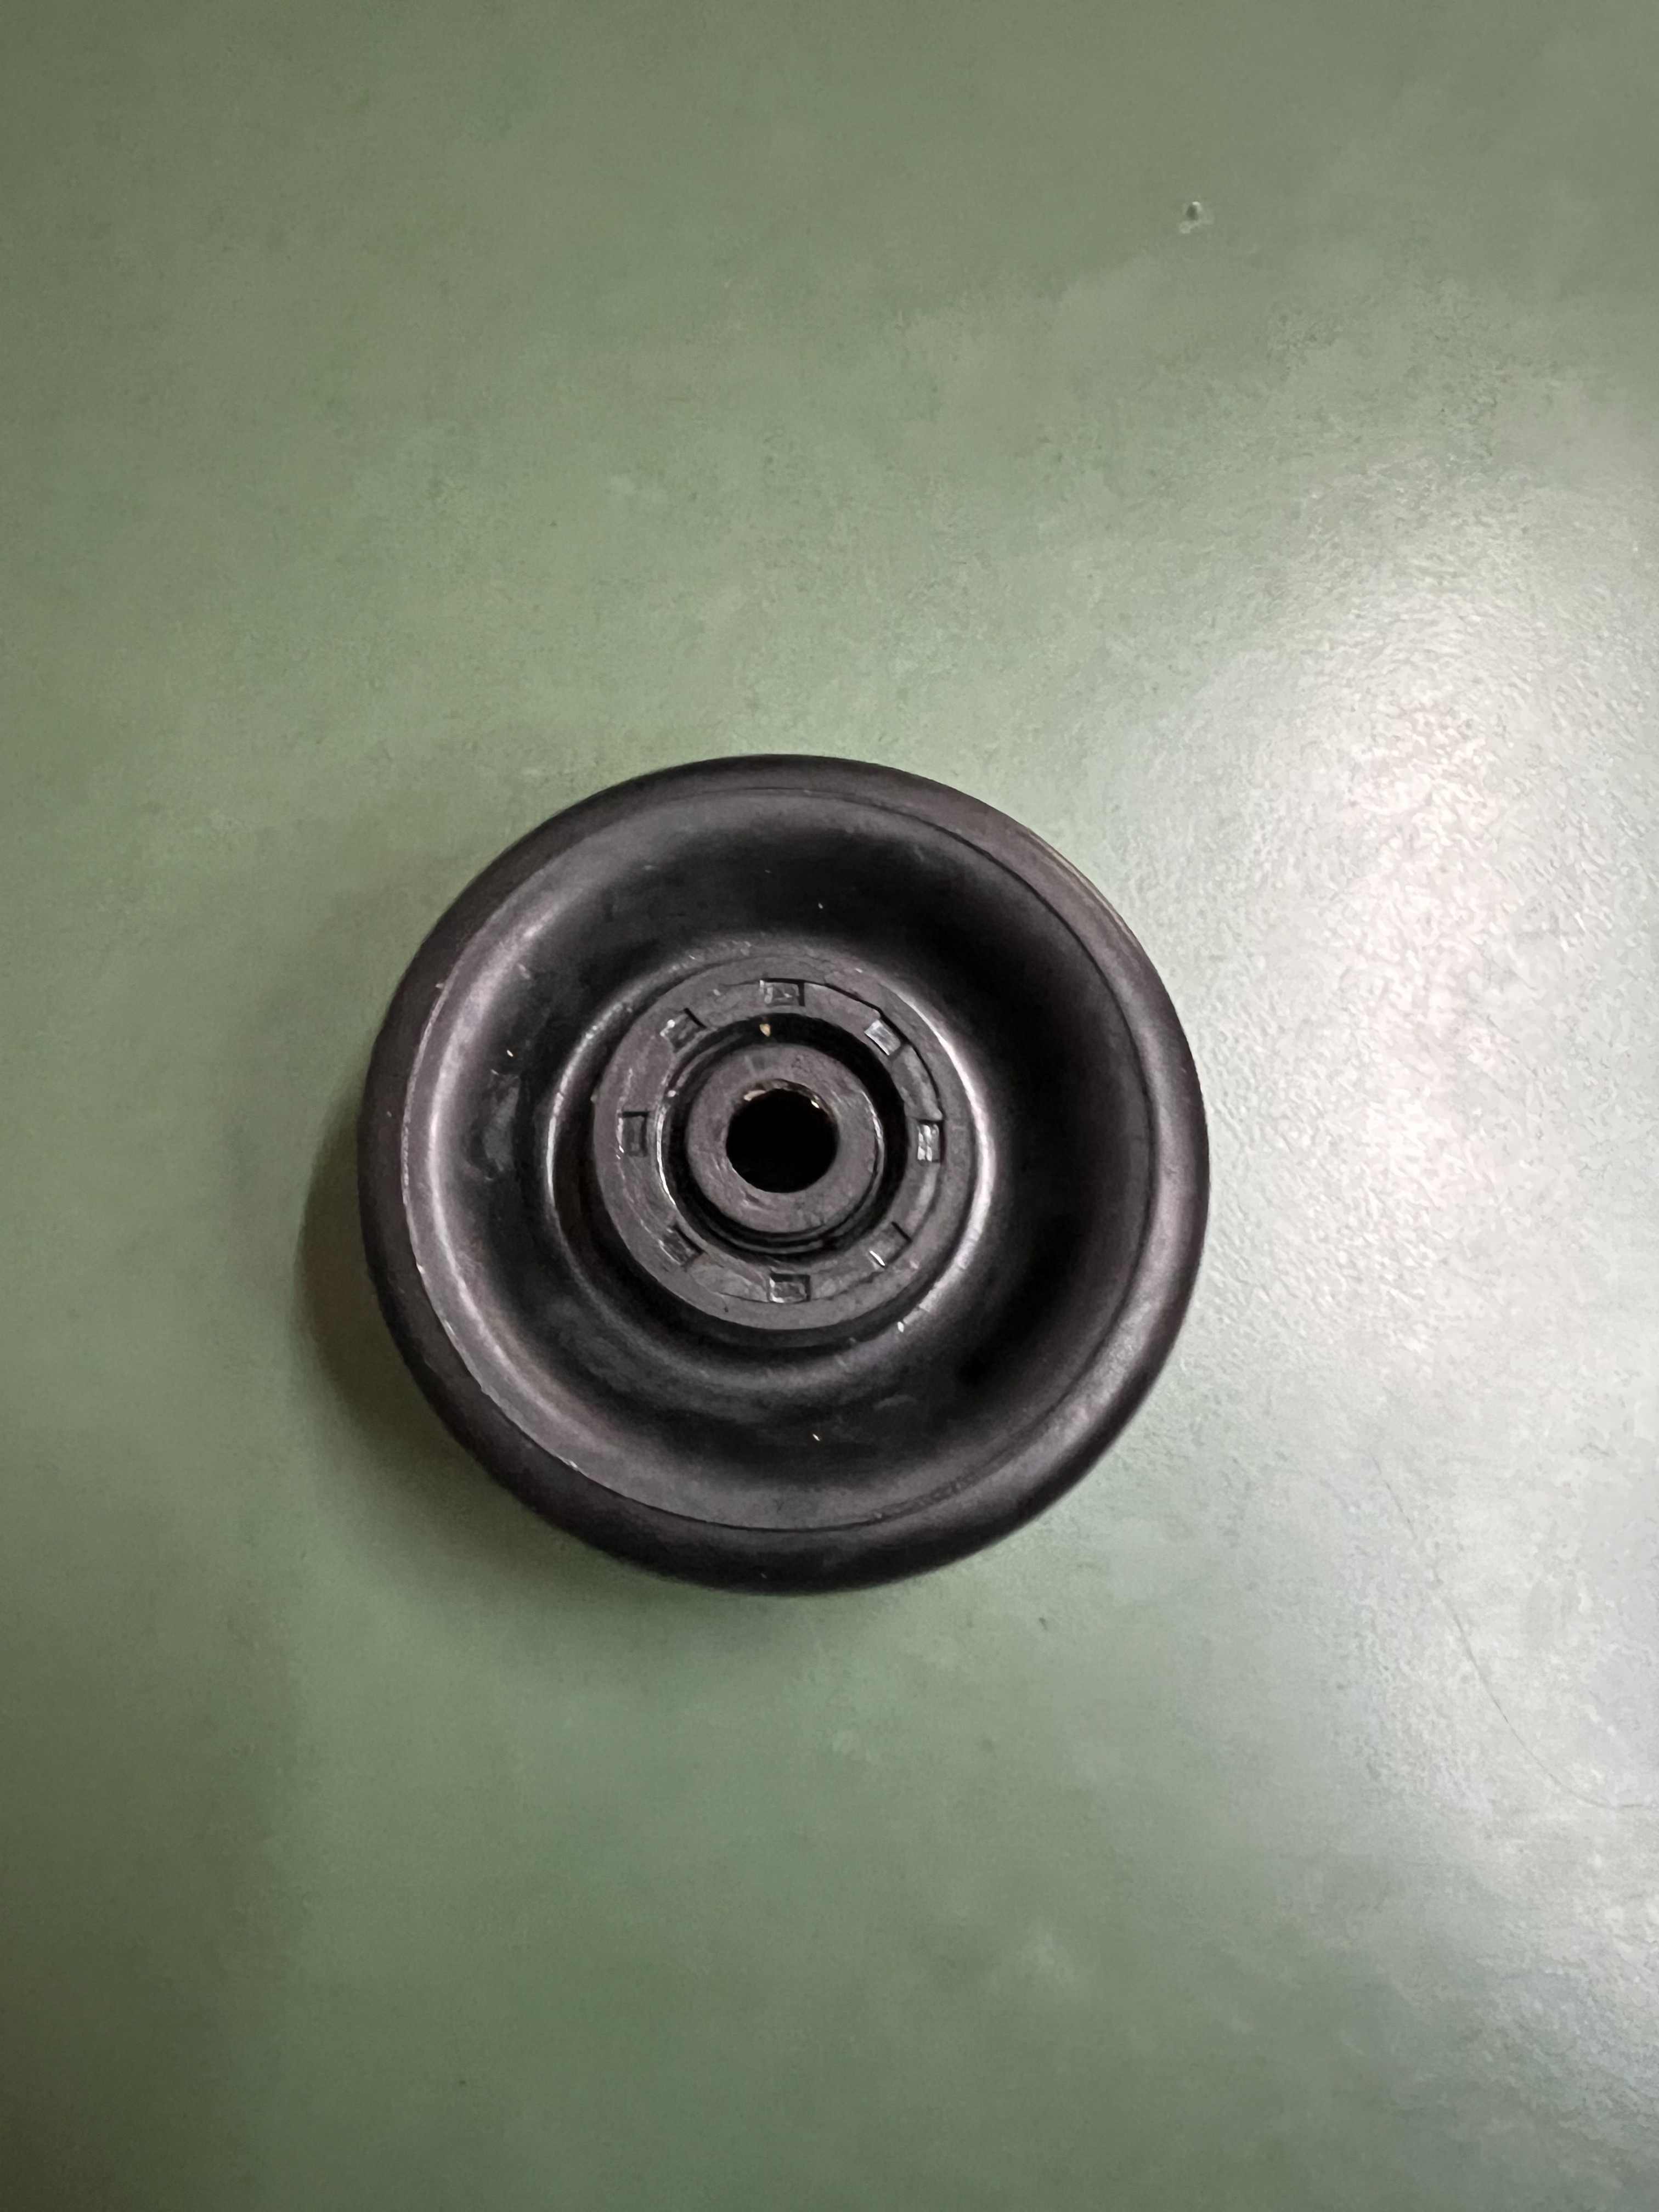lever: (354, 705, 1244, 1618)
